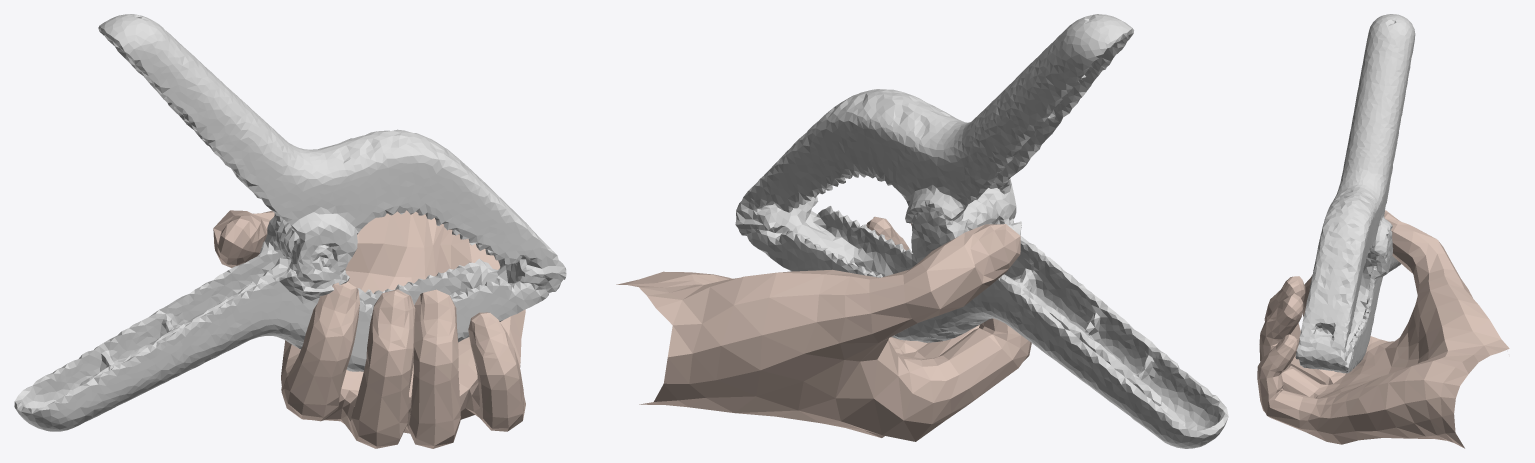
Rendered from mano_and_object_batch0_frame0.glb.
3 renders of one model, left to right at view 1: azimuth 30°, elevation 25°; view 2: azimuth 150°, elevation 25°; view 3: azimuth 270°, elevation 25°, orthographic. The views are drawn at different scales.
Parts seen in each view (by area): view 1: world, mano; view 2: world, mano; view 3: mano, world.
Boxes of the visible parts, x1,y1,x2,y2 form: world: [14, 14, 566, 431]; mano: [213, 210, 525, 448]; world: [735, 14, 1228, 448]; mano: [616, 216, 1031, 441]; mano: [1257, 210, 1509, 448]; world: [1295, 14, 1415, 373].
Bounding box in the file's own units: 0.2632 × 0.2144 × 0.1548.
